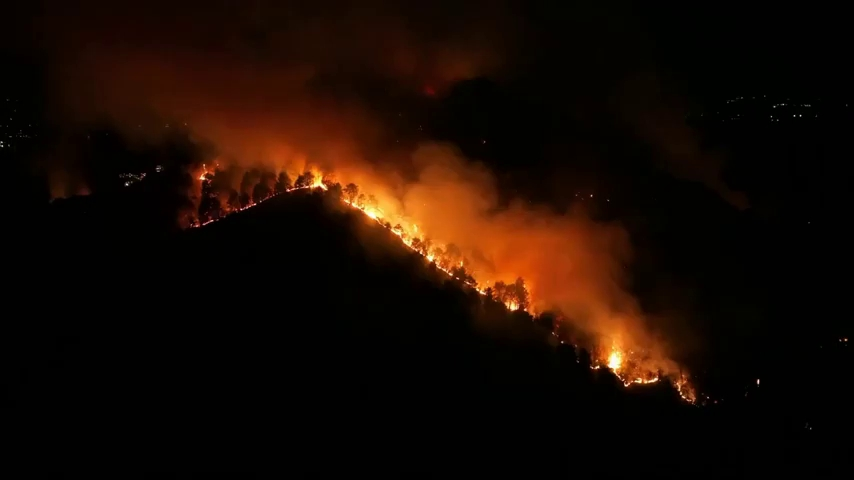forest_fire: (187, 165, 531, 311), (591, 341, 660, 386), (673, 374, 694, 401), (551, 327, 566, 342), (570, 342, 576, 347)
